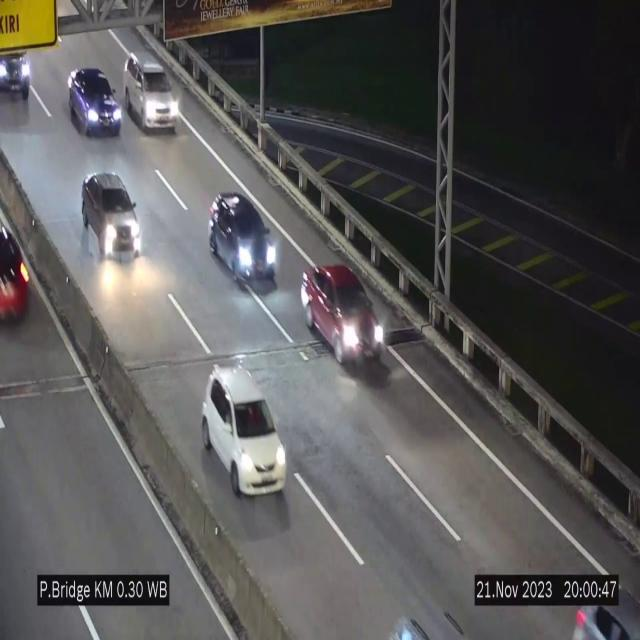Car: (201, 365, 287, 495), (300, 264, 388, 369), (209, 192, 279, 289), (81, 171, 145, 264), (124, 52, 179, 132), (0, 203, 35, 328), (68, 68, 120, 134), (0, 38, 42, 102)
